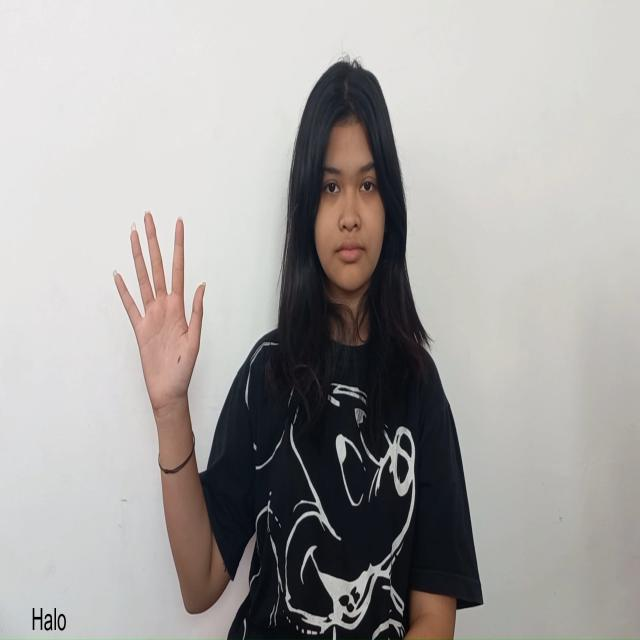Halo -BISINDO-: (112, 209, 206, 424)
